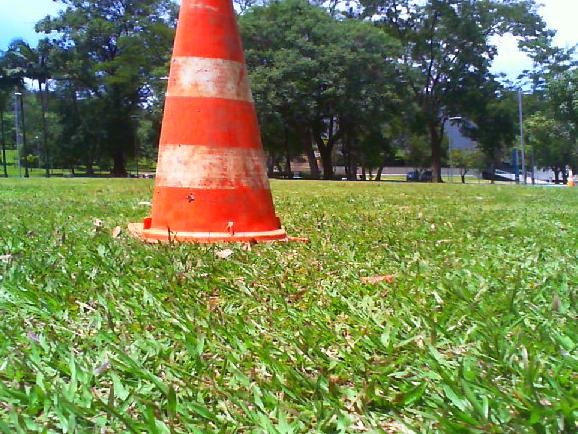0 cone: (128, 0, 308, 242)
